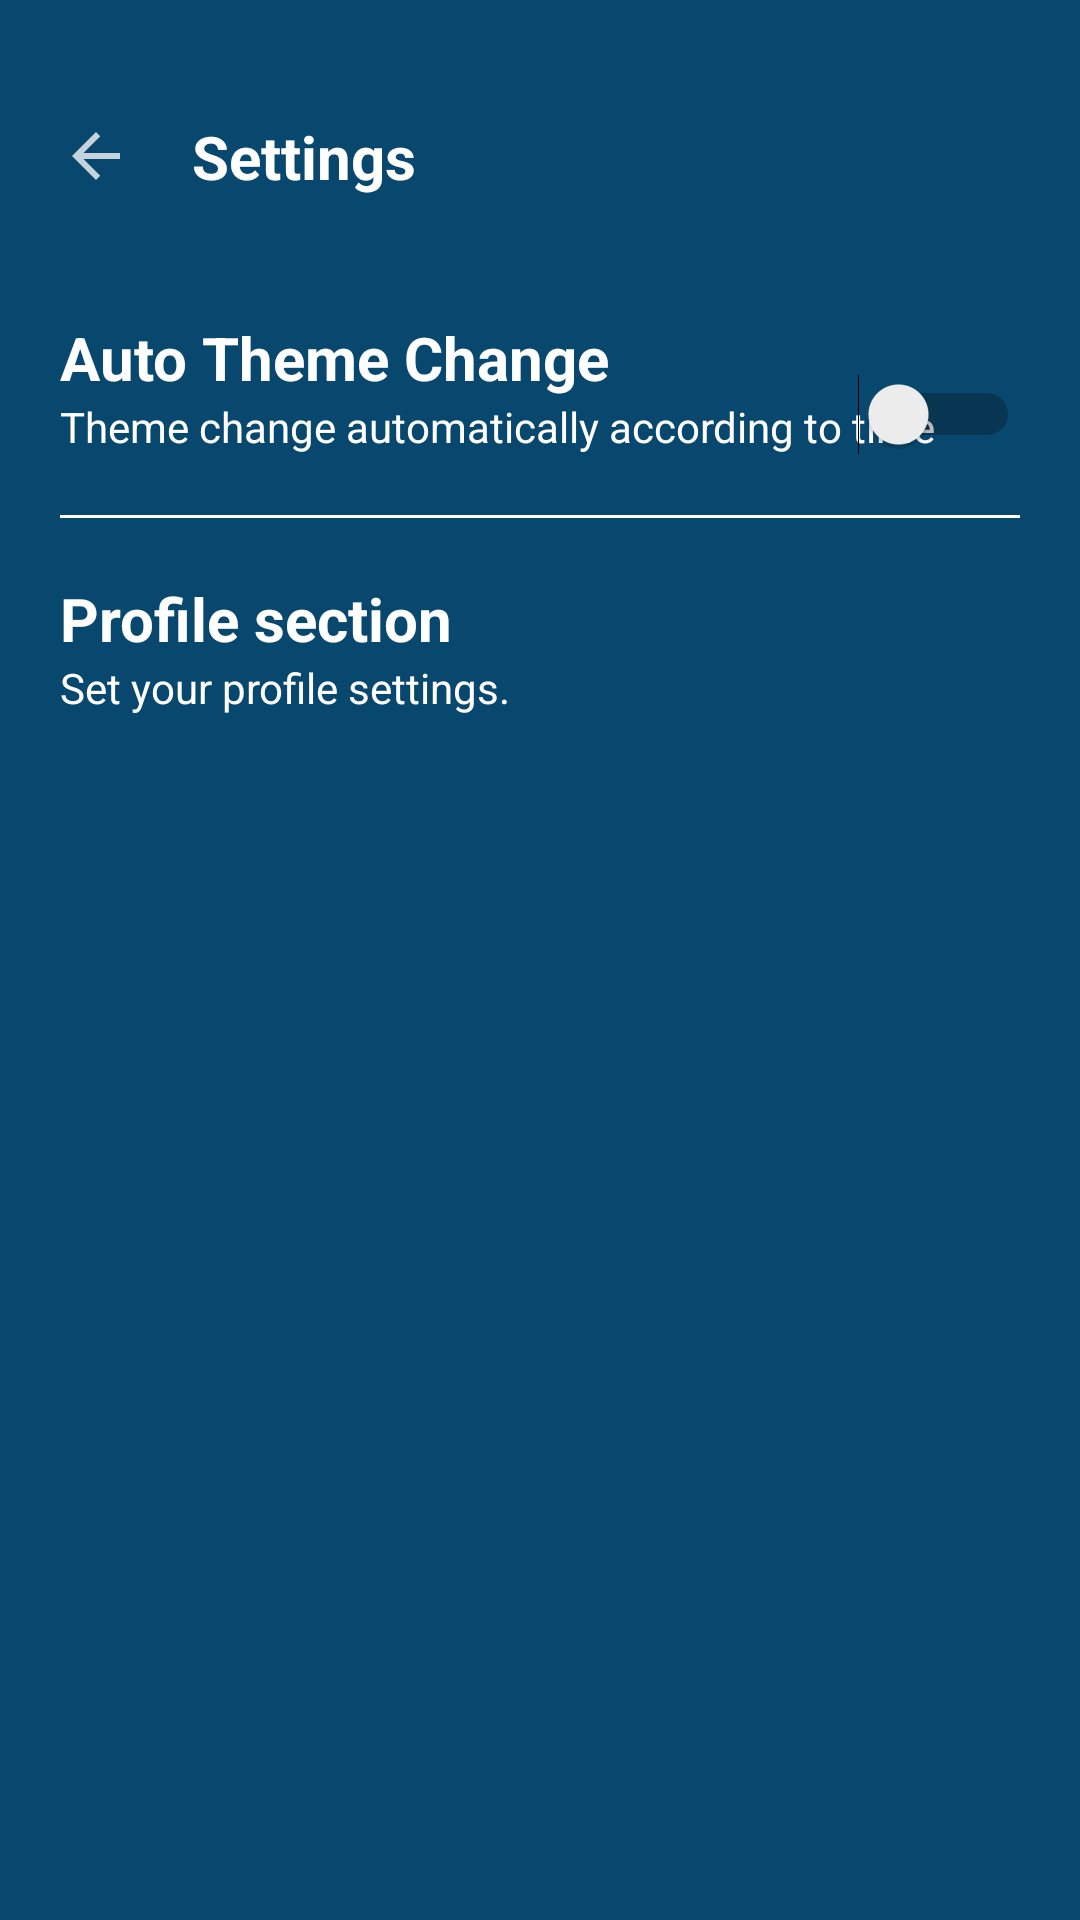

Screen size 1080x1920. Icon name, then its center in pixels as (x,y):
arrow back: (96,156)
